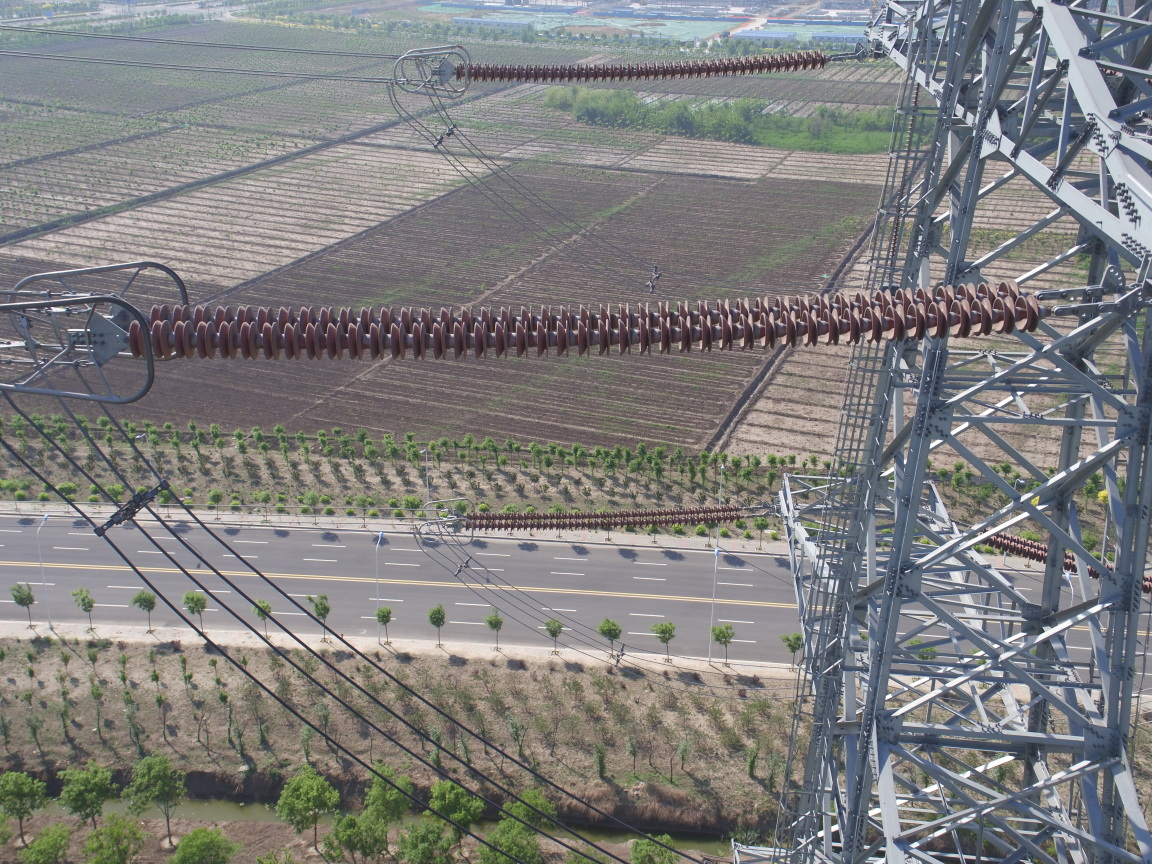insulator: (108, 279, 1079, 363), (446, 45, 848, 81), (457, 501, 757, 533)
